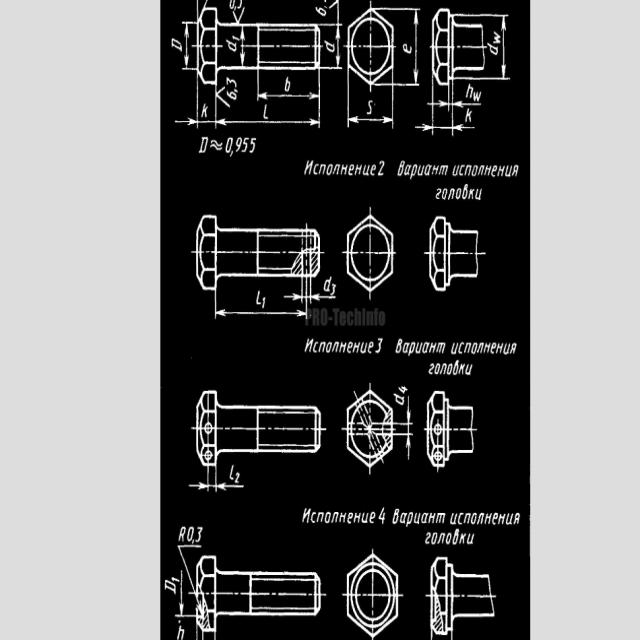marking_line: (216, 118, 319, 127), (217, 309, 307, 319), (258, 90, 319, 101), (500, 17, 508, 78), (412, 11, 419, 80), (351, 114, 392, 125), (173, 117, 197, 131), (184, 23, 191, 68), (455, 99, 483, 108), (336, 27, 342, 68), (179, 568, 184, 616), (240, 27, 246, 66), (218, 482, 244, 491), (313, 293, 337, 302), (426, 99, 449, 107), (454, 123, 474, 132), (283, 291, 301, 301), (188, 481, 207, 490), (413, 123, 431, 132), (405, 396, 411, 422), (405, 438, 411, 462)
numeric: (224, 135, 258, 157), (225, 72, 239, 102), (186, 524, 204, 545), (315, 6, 328, 19), (226, 0, 243, 8)
